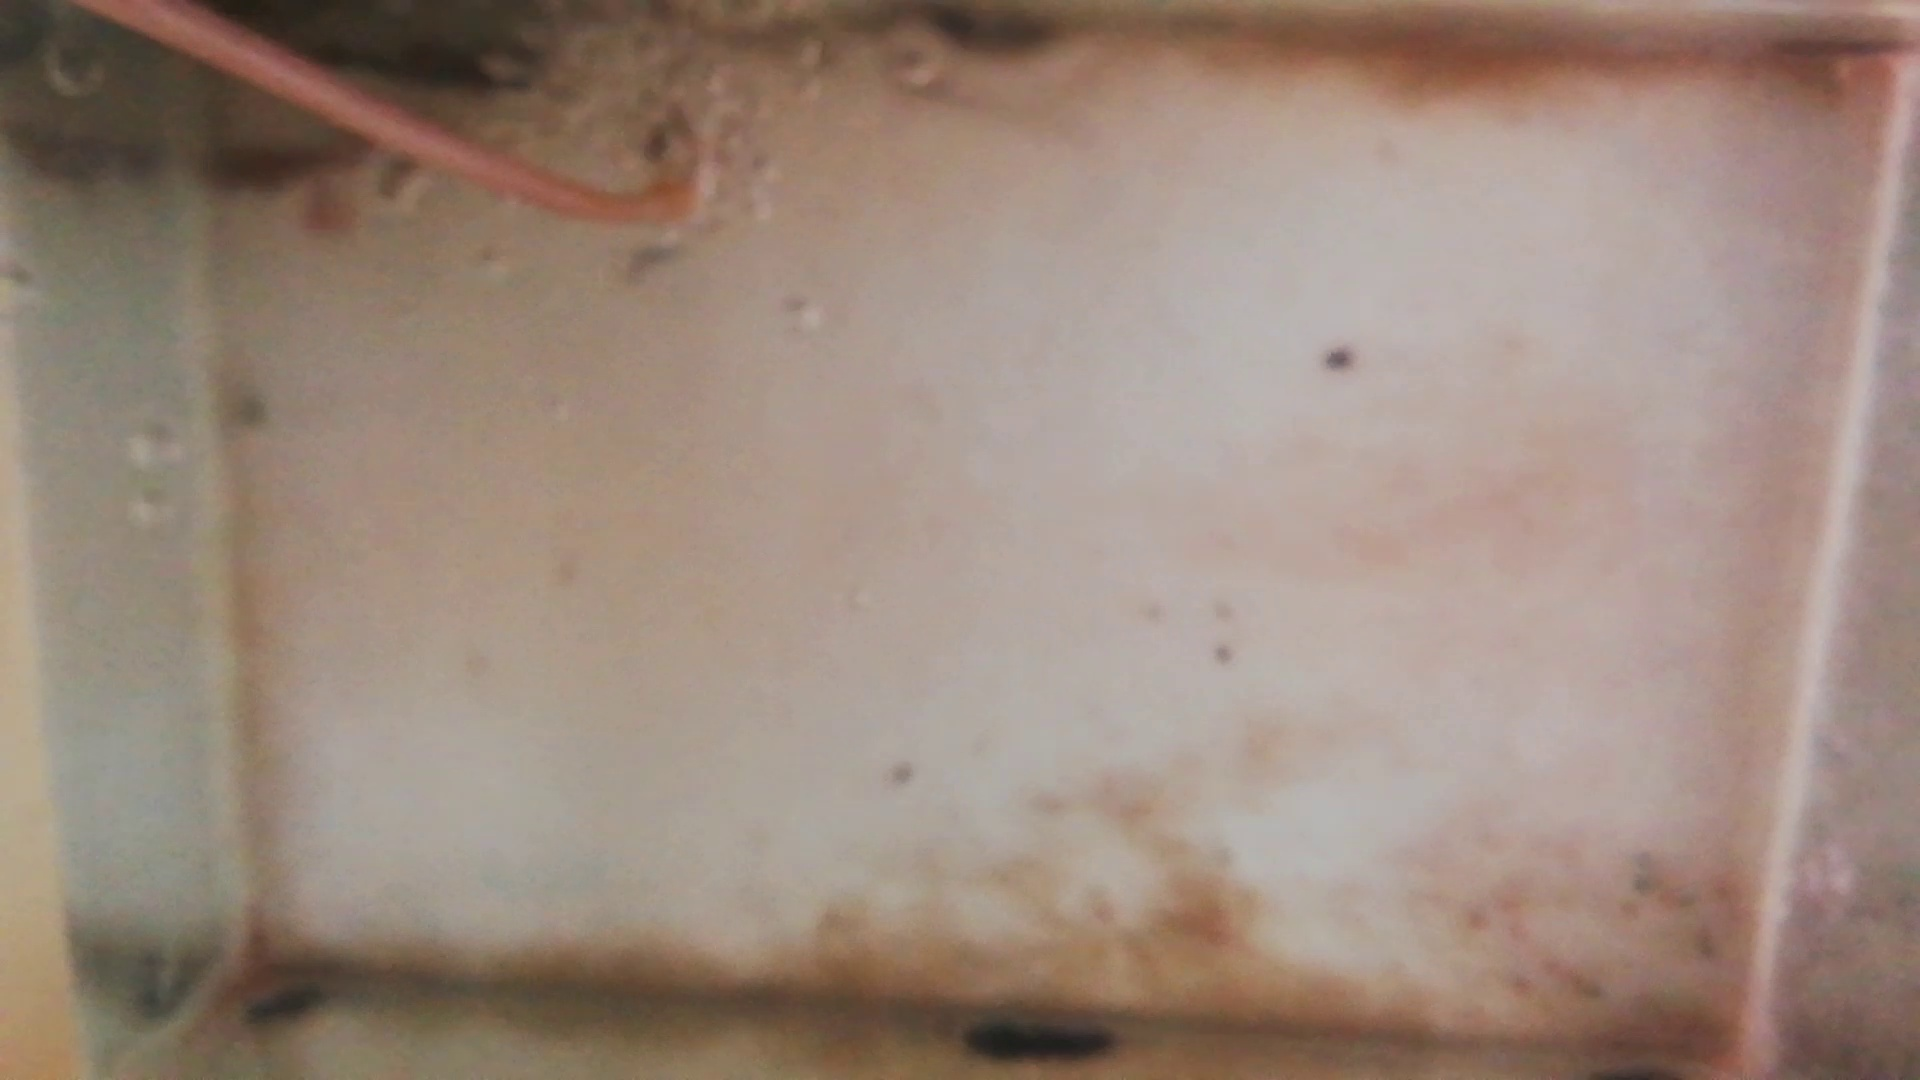fish: (344, 40, 541, 98), (200, 135, 367, 198)
